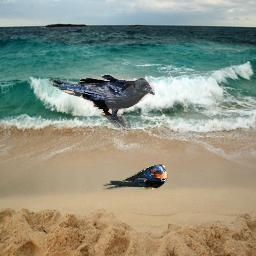Crow: (48, 74, 155, 131)
Swallow: (103, 164, 168, 190)
